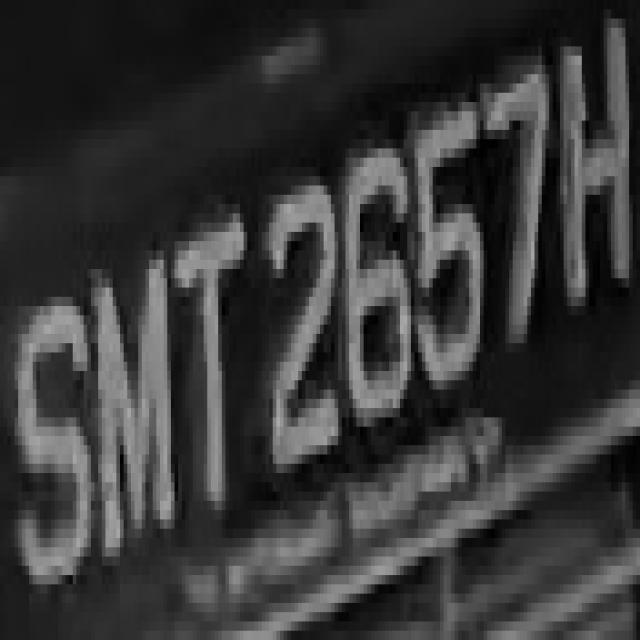2: (265, 167, 342, 482)
5: (404, 102, 484, 408)
6: (346, 120, 414, 454)
7: (476, 65, 549, 352)
H: (552, 18, 640, 324)
M: (88, 241, 168, 557)
S: (7, 260, 98, 603)
T: (164, 195, 251, 519)
